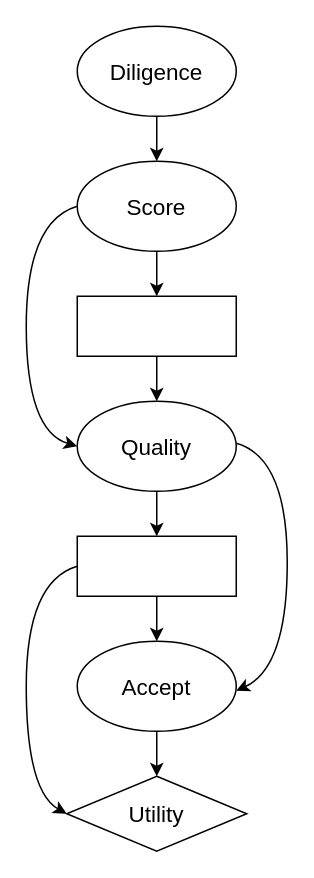
This 314x878 diagram has some shape labels left out. Here are the shapes that lost their labels. From the top down, the centre of each, then its label:
At [156,325]: "Ask".
At [156,565]: "Apply".
